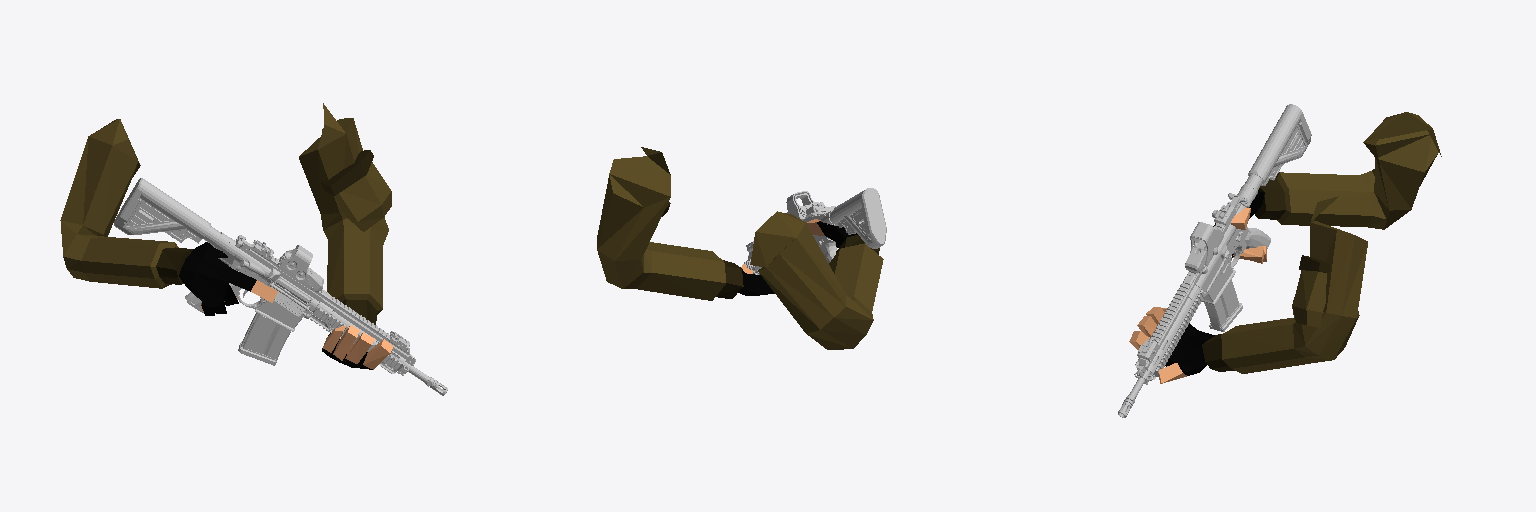
File: holding_gun_close2.obj
3 renders of one model, left to right at view 1: azimuth 30°, elevation 25°; view 2: azimuth 150°, elevation 25°; view 3: azimuth 270°, elevation 25°, orthographic.
Visible parts, largest first — view 1: Soldat_Cylinder.001, Body_Mesh_0005.rip_mesh0000, Mag_Mesh_0004.rip_mesh0000, Holo_Mesh_0006.rip_mesh0000; view 2: Soldat_Cylinder.001, Body_Mesh_0005.rip_mesh0000; view 3: Soldat_Cylinder.001, Body_Mesh_0005.rip_mesh0000, Holo_Mesh_0006.rip_mesh0000, Mag_Mesh_0004.rip_mesh0000.
Boxes of the visible parts, box(x1,y1,x2,y2) form: Soldat_Cylinder.001: box(60, 103, 393, 369); Body_Mesh_0005.rip_mesh0000: box(114, 178, 447, 395); Mag_Mesh_0004.rip_mesh0000: box(238, 313, 290, 365); Holo_Mesh_0006.rip_mesh0000: box(277, 245, 323, 291); Soldat_Cylinder.001: box(597, 147, 883, 349); Body_Mesh_0005.rip_mesh0000: box(744, 188, 886, 274); Soldat_Cylinder.001: box(1129, 112, 1441, 383); Body_Mesh_0005.rip_mesh0000: box(1118, 104, 1311, 417); Holo_Mesh_0006.rip_mesh0000: box(1185, 222, 1223, 272); Mag_Mesh_0004.rip_mesh0000: box(1204, 269, 1242, 331).
Size of the model in its own units: 14.32 by 9.98 by 13.5.